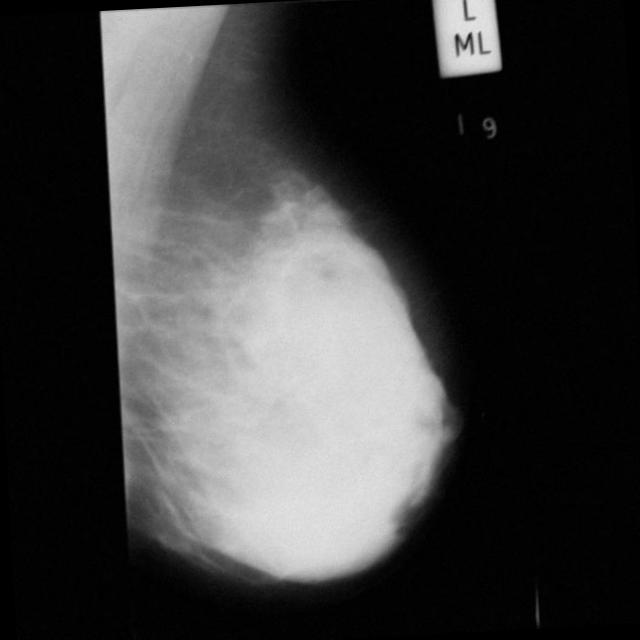ARCH: (306, 205, 388, 288)
